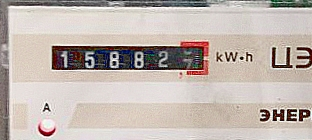1: (57, 48, 70, 67)
2: (156, 48, 169, 68)
5: (82, 49, 95, 69)
7: (181, 56, 193, 70)
8: (107, 48, 120, 69), (132, 49, 145, 70)
screen: (42, 32, 218, 82)
